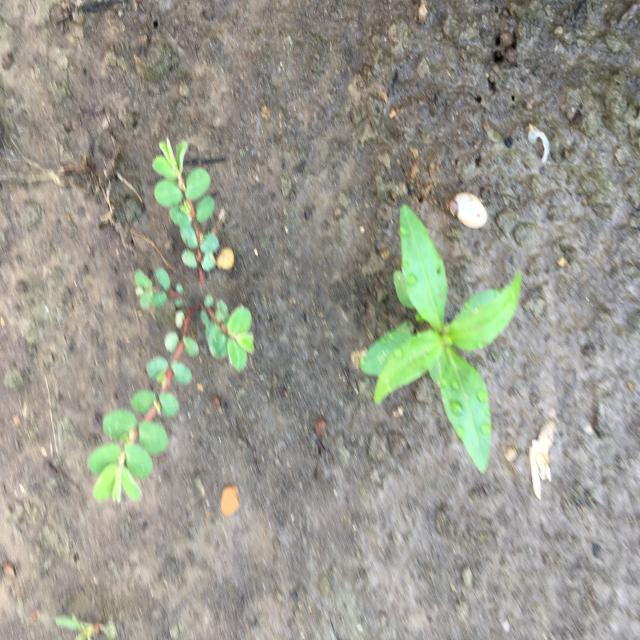Eclipta: (359, 201, 525, 479)
SpottedSpurge: (85, 133, 258, 507)
